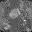people: (9, 8, 21, 20)
